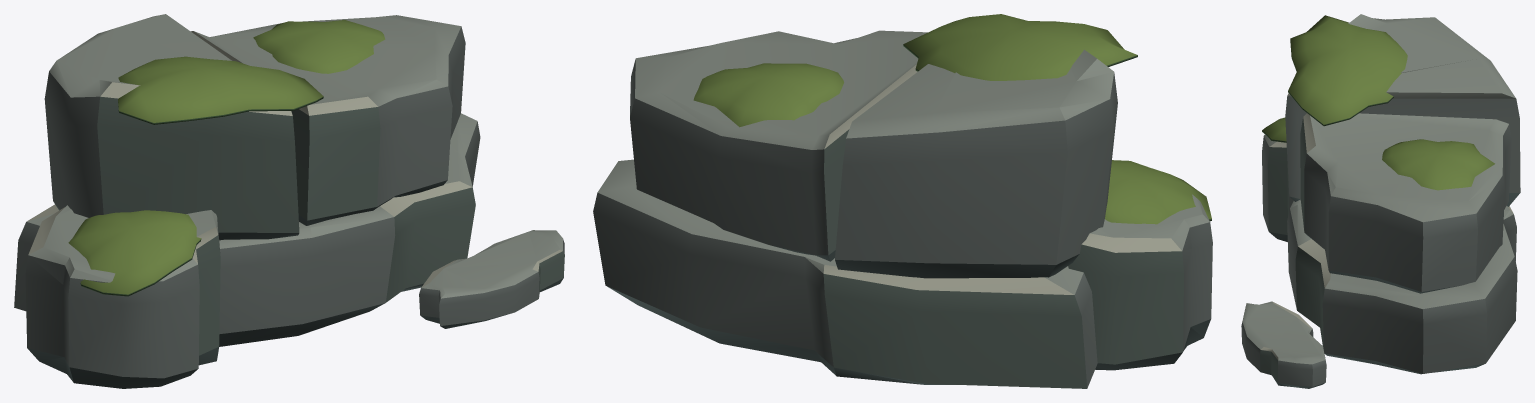
The model's file is fw_granite_moss.glb.
3 renders of one model, left to right at view 1: azimuth 30°, elevation 25°; view 2: azimuth 150°, elevation 25°; view 3: azimuth 270°, elevation 25°, orthographic. The views are drawn at different scales.
Visible parts, largest first — view 1: body; view 2: body; view 3: body.
Part boxes in pixels (left/top/right/bottom): body: left=14, top=14, right=564, bottom=388; body: left=593, top=14, right=1212, bottom=388; body: left=1241, top=14, right=1520, bottom=388.
Bounding box in the file's own units: 2.52 × 1.28 × 1.49.
